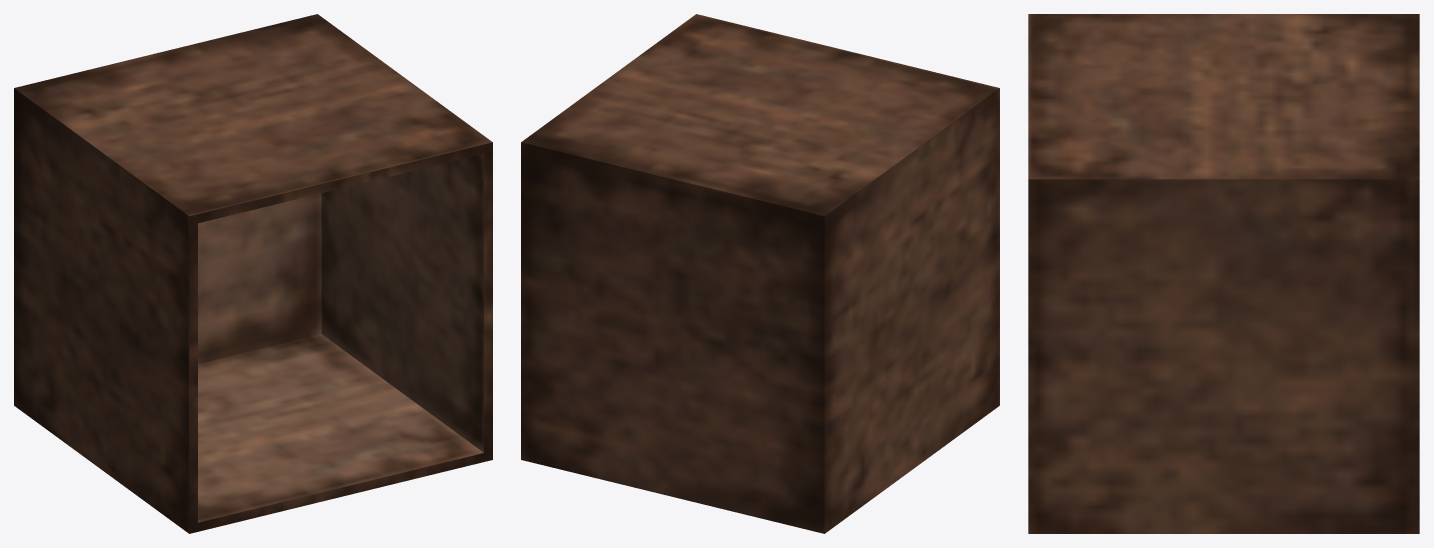
File: prop_nightstand.obj
The picture shows the model from 3 angles, left to right: view 1: azimuth 30°, elevation 25°; view 2: azimuth 150°, elevation 25°; view 3: azimuth 270°, elevation 25°; orthographic projection. The views are drawn at different scales.
Visible parts, largest first — view 1: Props_BedsideTable; view 2: Props_BedsideTable; view 3: Props_BedsideTable.
Part boxes in pixels (left/top/right/bottom): Props_BedsideTable: left=14, top=14, right=492, bottom=533; Props_BedsideTable: left=521, top=14, right=999, bottom=533; Props_BedsideTable: left=1028, top=14, right=1419, bottom=533.
Bounding box in the file's own units: 0.4887 × 0.4887 × 0.4887.
Materials: 1 (1 with a texture image).
